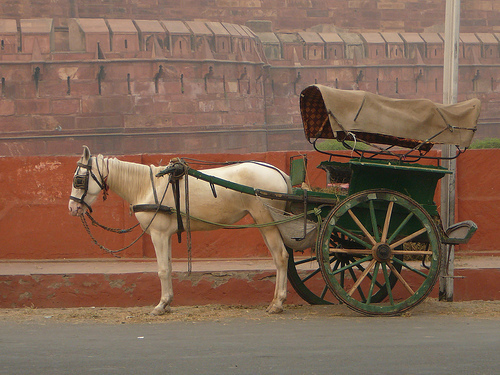horse: (68, 145, 299, 317)
